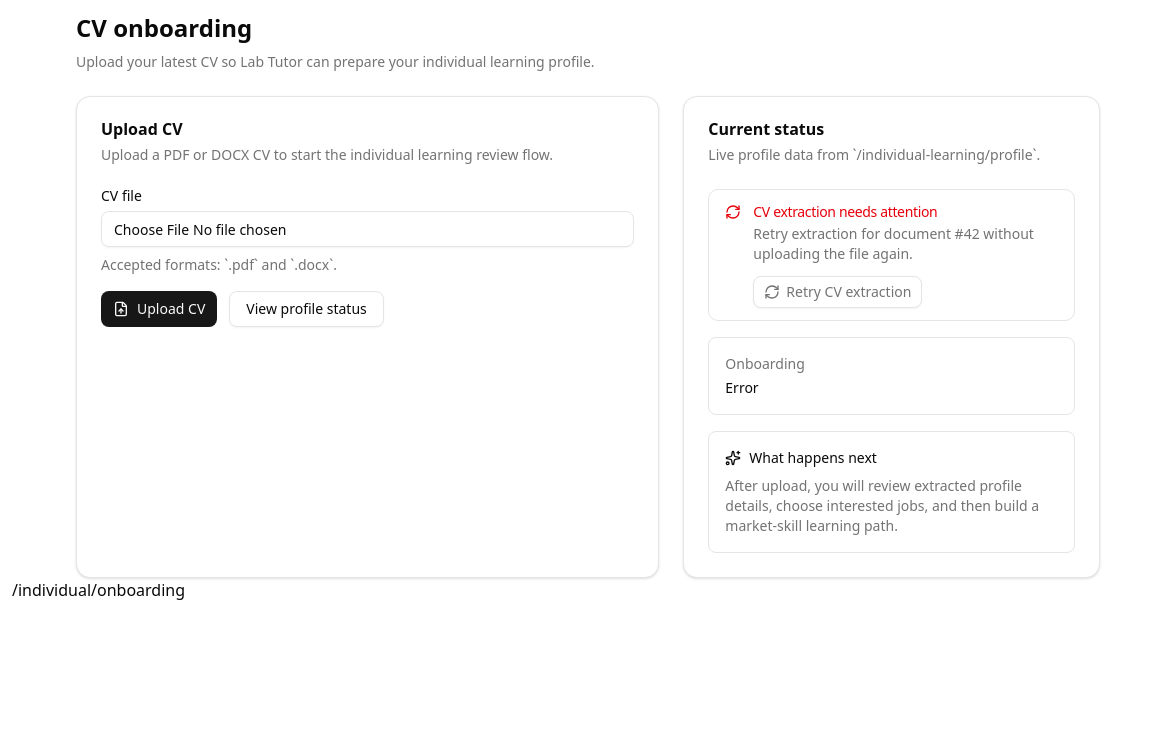
Test: IndividualOnboardingPage › keeps failed CV recovery retryable when the retry request fails
Click the button "Retry CV extraction".
click(838, 292)  # box [753,276,922,308]
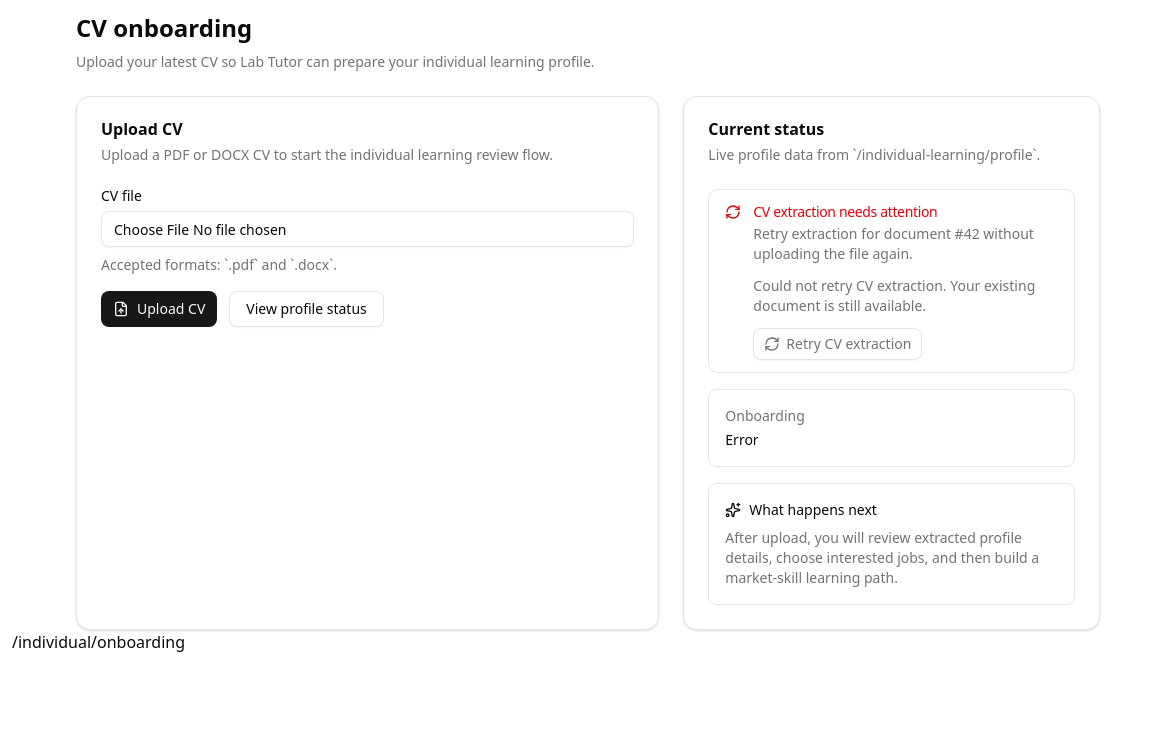
Expected: the button "Retry CV extraction" is enabled, [753,328,922,360]
Now the text "Could not retry CV extraction" is shown, box [753,276,1035,315]
